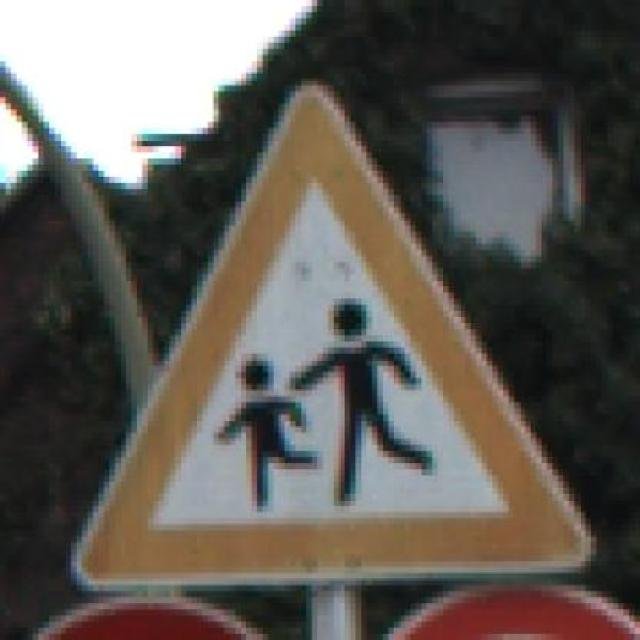Beware of children: (60, 79, 602, 592)
